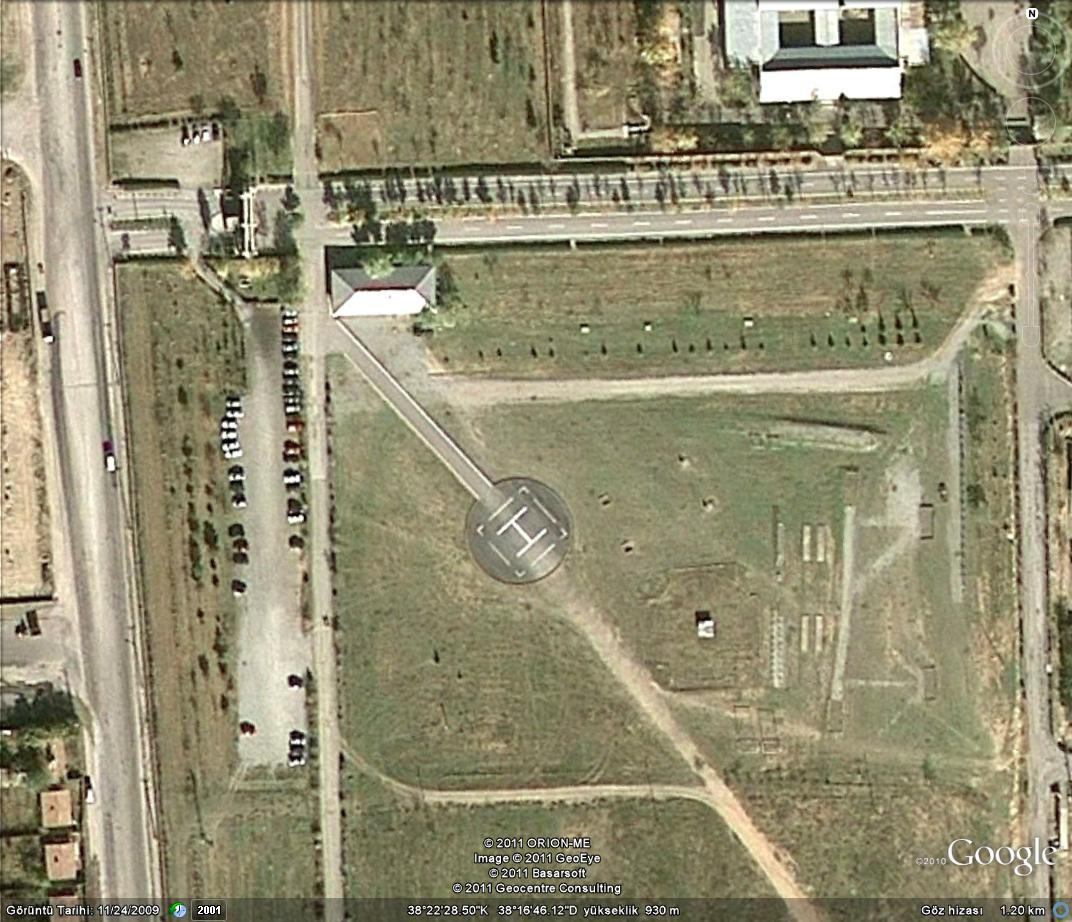heliport: (488, 502, 551, 560)
